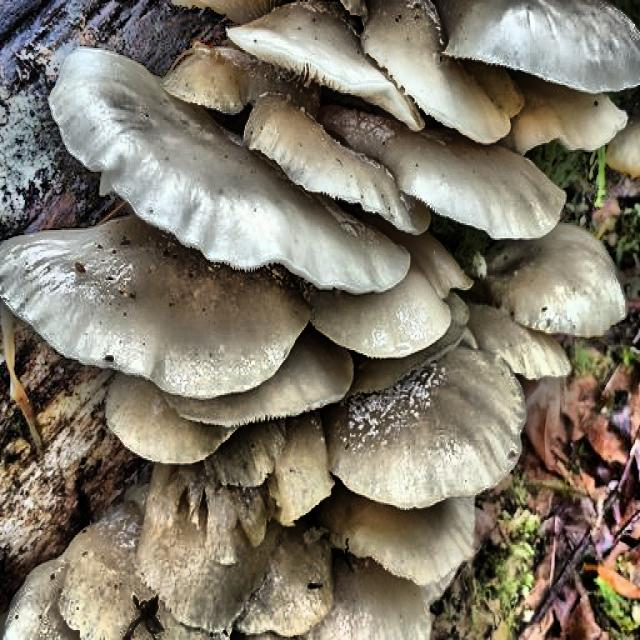Healthy: (103, 64, 414, 362)
